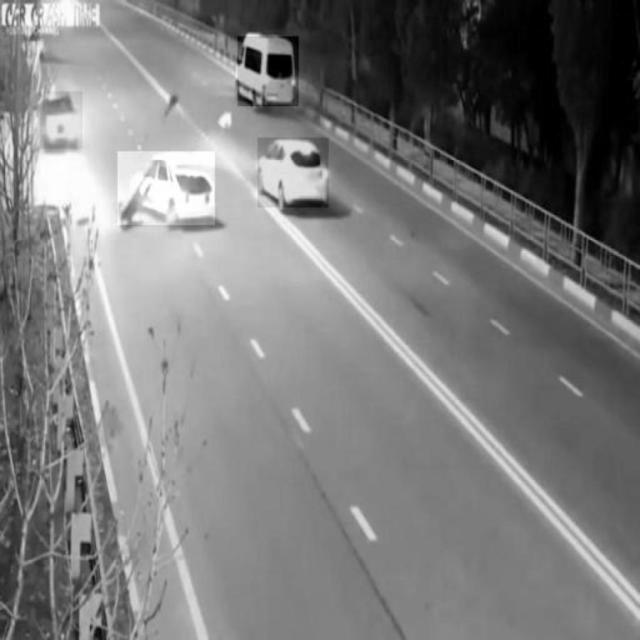accident: (118, 152, 216, 225)
vehicle: (258, 138, 329, 208), (238, 36, 299, 106), (40, 92, 82, 149)
